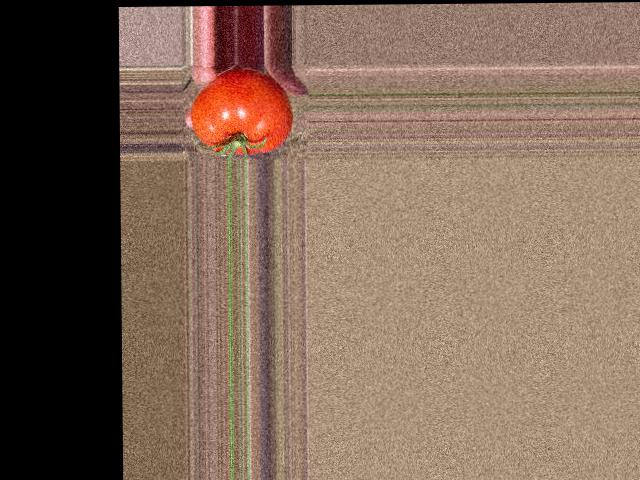tomato: (190, 67, 291, 154)
